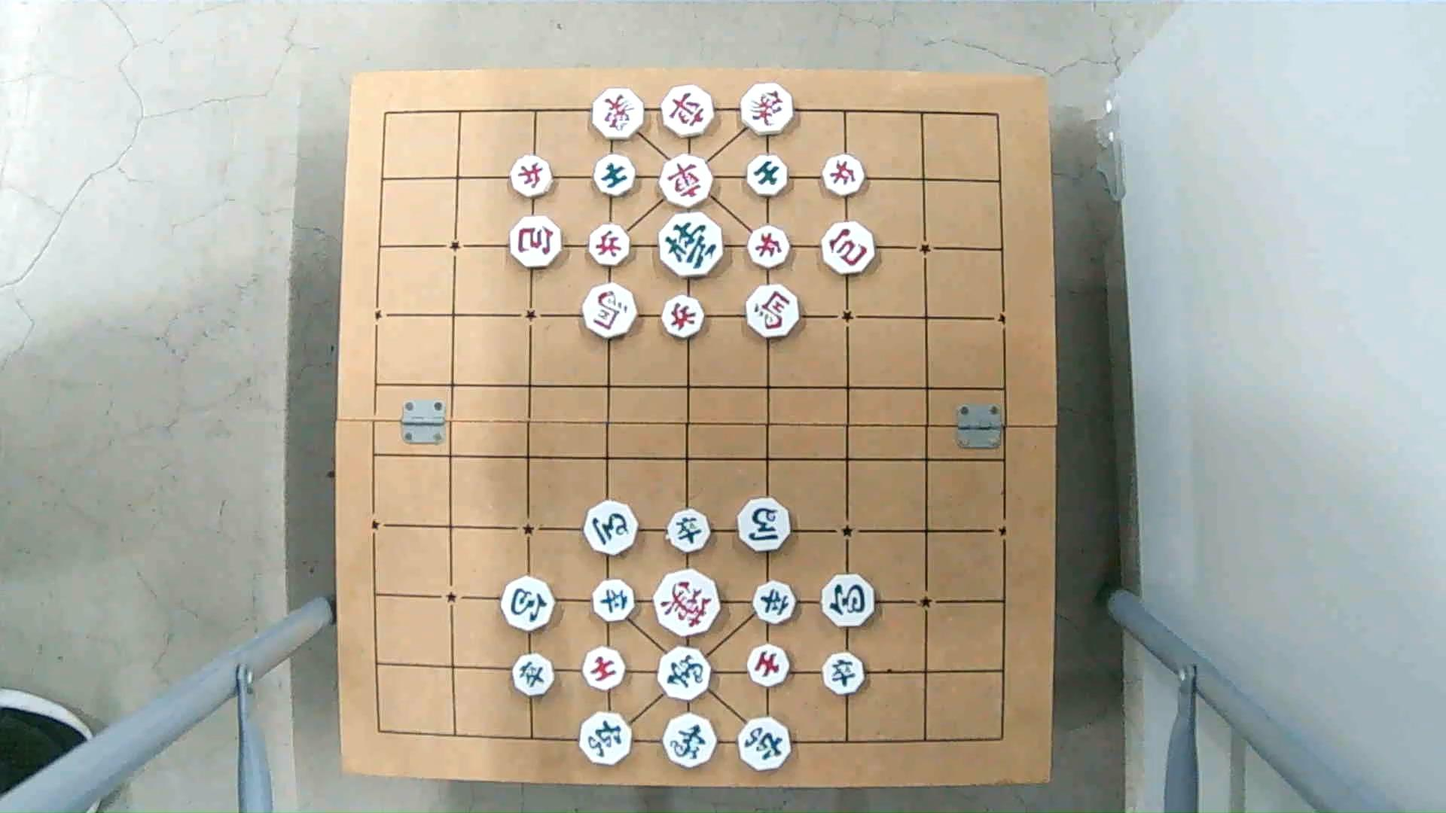cha_green: (577, 714, 635, 763), (735, 720, 793, 768)
cha_red: (660, 87, 718, 136), (656, 158, 715, 206)
jol_green: (664, 511, 715, 551), (751, 583, 801, 622), (588, 583, 638, 621), (819, 654, 868, 692), (512, 656, 556, 698)
jol_red: (660, 297, 706, 341), (505, 156, 555, 194), (820, 157, 868, 195), (587, 226, 636, 263), (749, 225, 790, 265)
ma_green: (734, 500, 792, 551), (581, 506, 642, 553)
ma_red: (740, 286, 801, 336), (581, 288, 641, 337)
po_green: (819, 575, 880, 626), (498, 580, 556, 629)
po_red: (819, 221, 879, 276), (508, 218, 566, 269)
sa_green: (593, 157, 640, 196), (744, 156, 792, 193)
sa_red: (580, 649, 629, 688), (747, 646, 793, 684)
sang_green: (655, 650, 716, 700), (660, 715, 718, 765)
sang_red: (739, 87, 798, 133), (588, 90, 645, 137)
wang_green: (657, 215, 728, 276)
wang_red: (653, 571, 724, 635)
